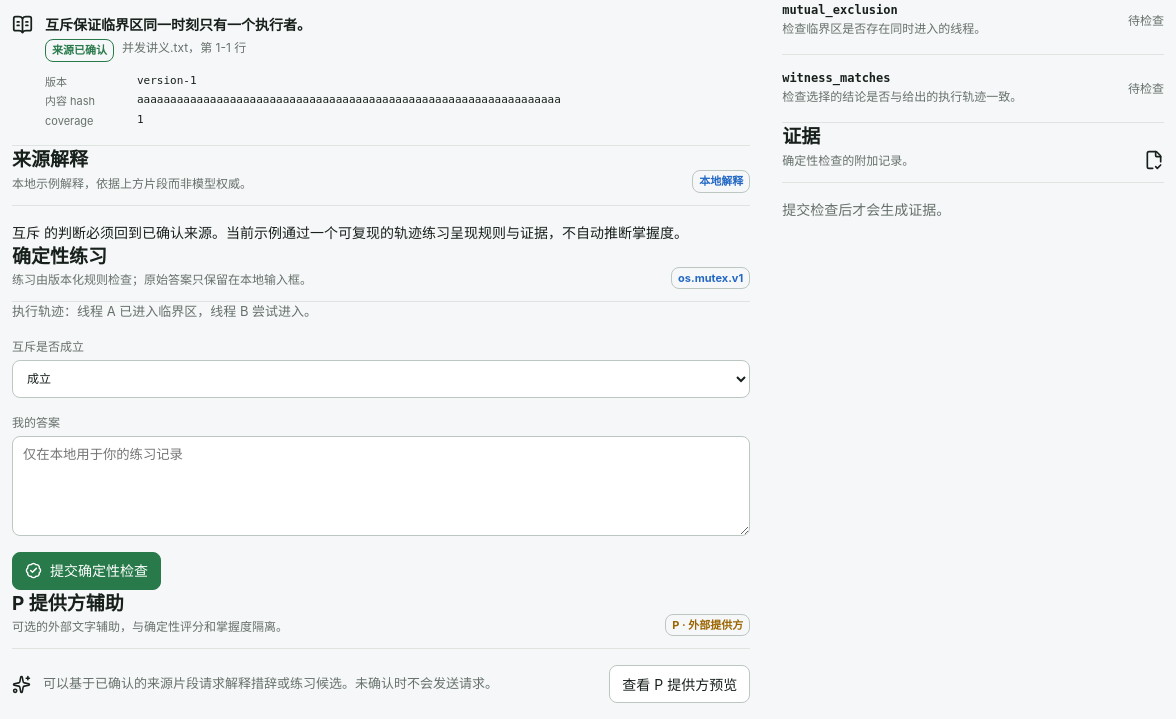
Scenario: LearningView › revokes the old preview while a replacement preview overlaps its pending consent
(page scrolled)
Click the button "查看 P 提供方预览" at (680, 684), box 609,665 -> 750,703
(page scrolled)
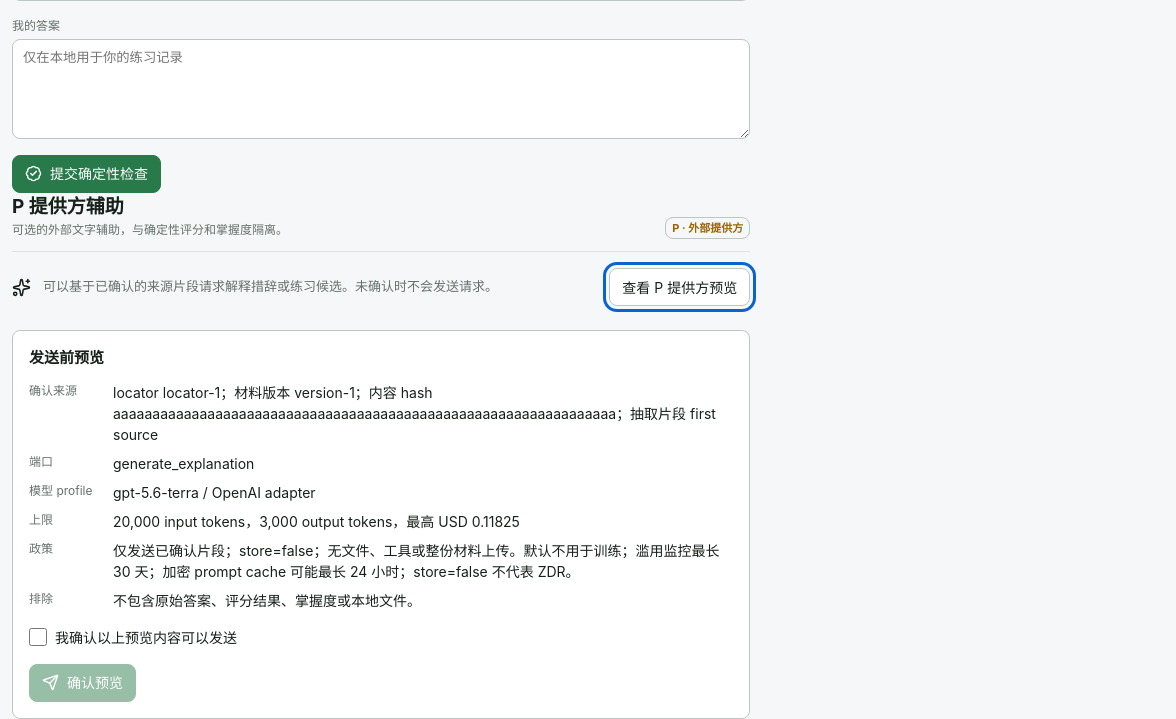
Click the checkbox labelled "我确认以上预览内容可以发送" at (38, 636), box 29,628 -> 47,646
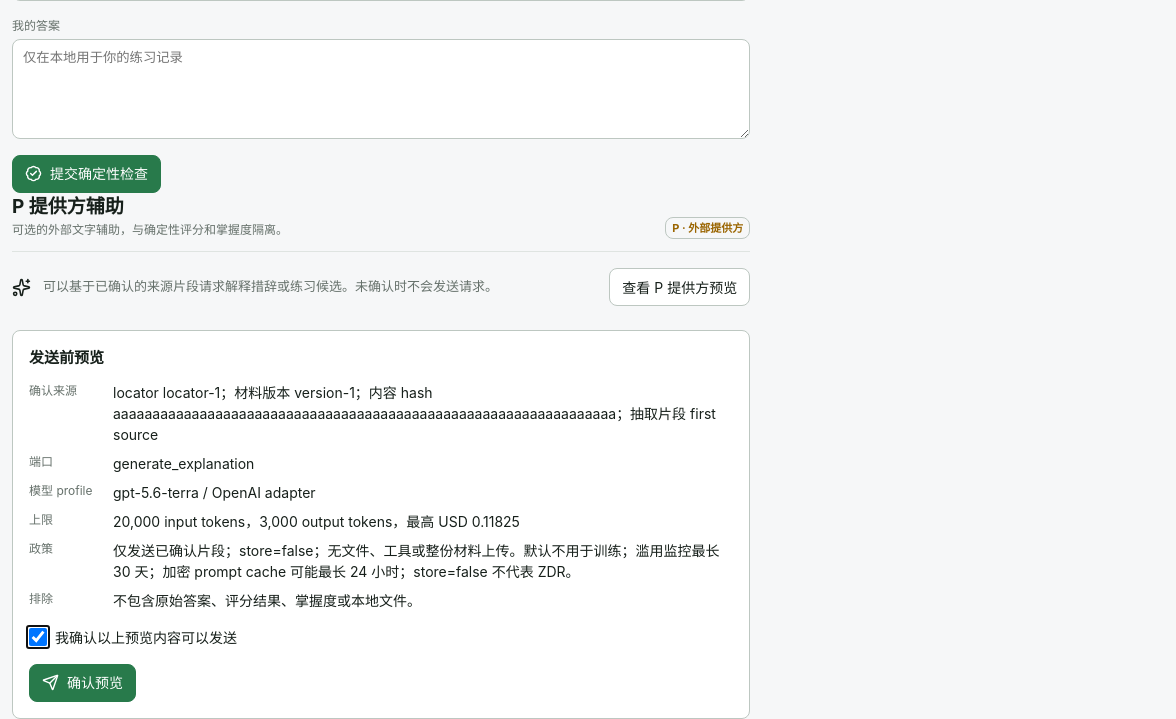
Click the button "确认预览" at (82, 682), box 29,664 -> 136,702
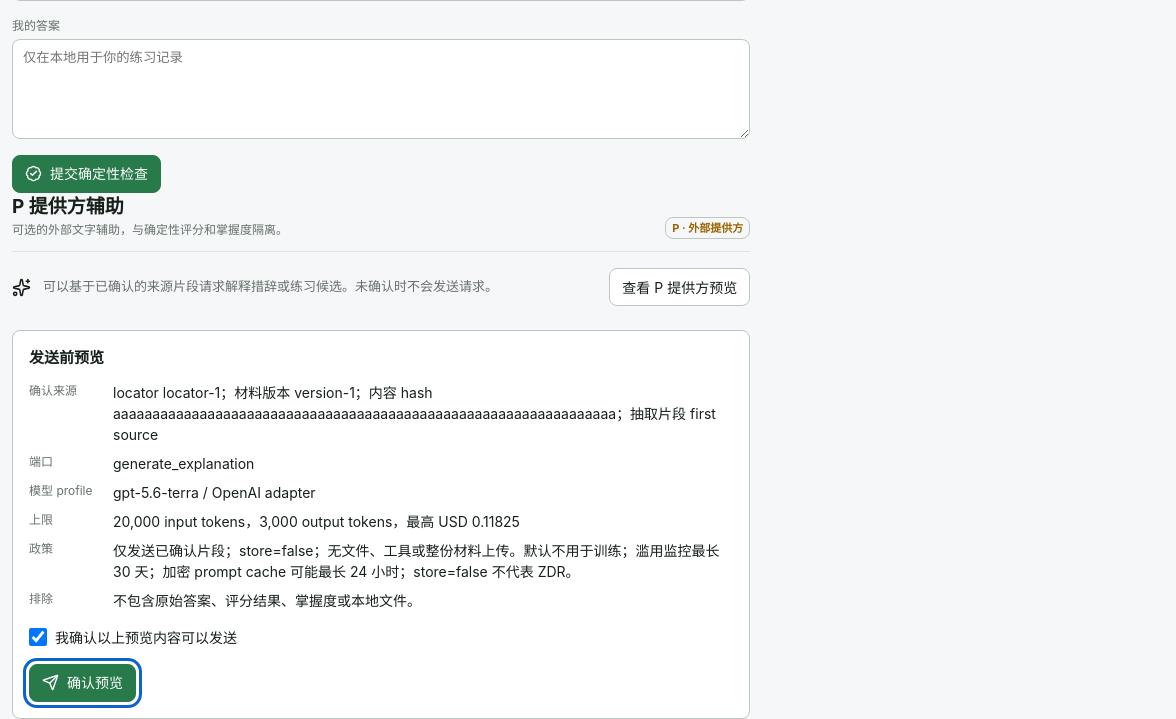
Click the button "查看 P 提供方预览" at (680, 287), box 609,268 -> 750,306
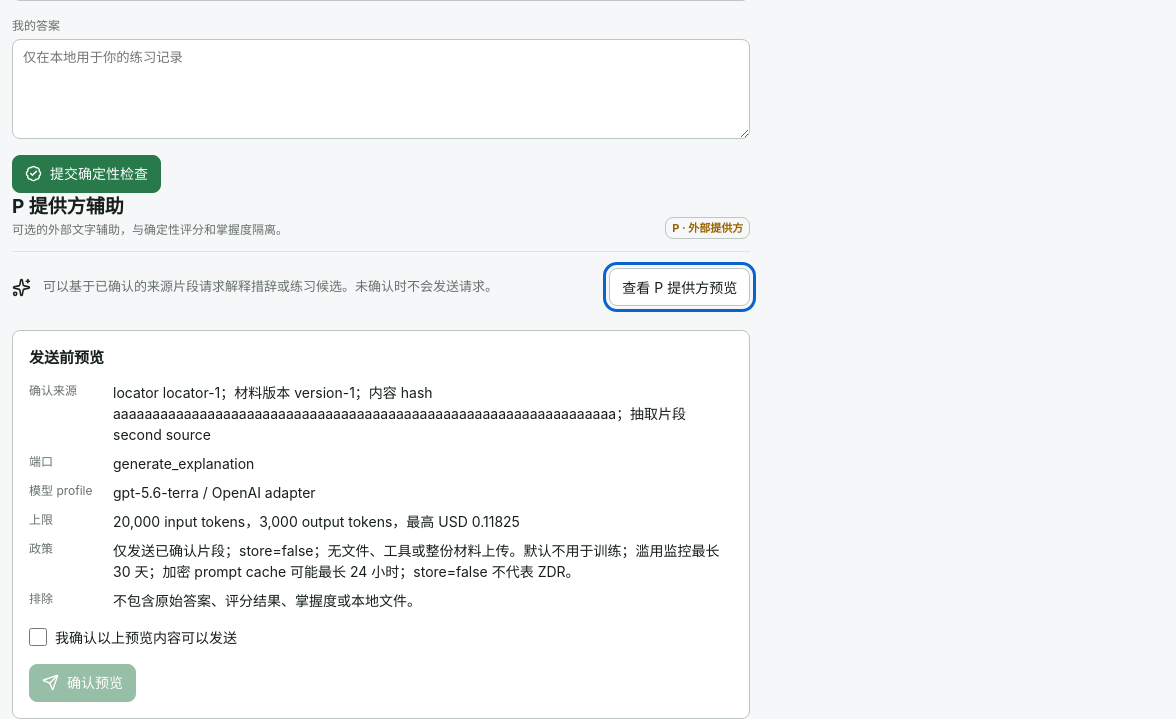
Expected: the text "second source" is shown, 113,426 -> 211,442
